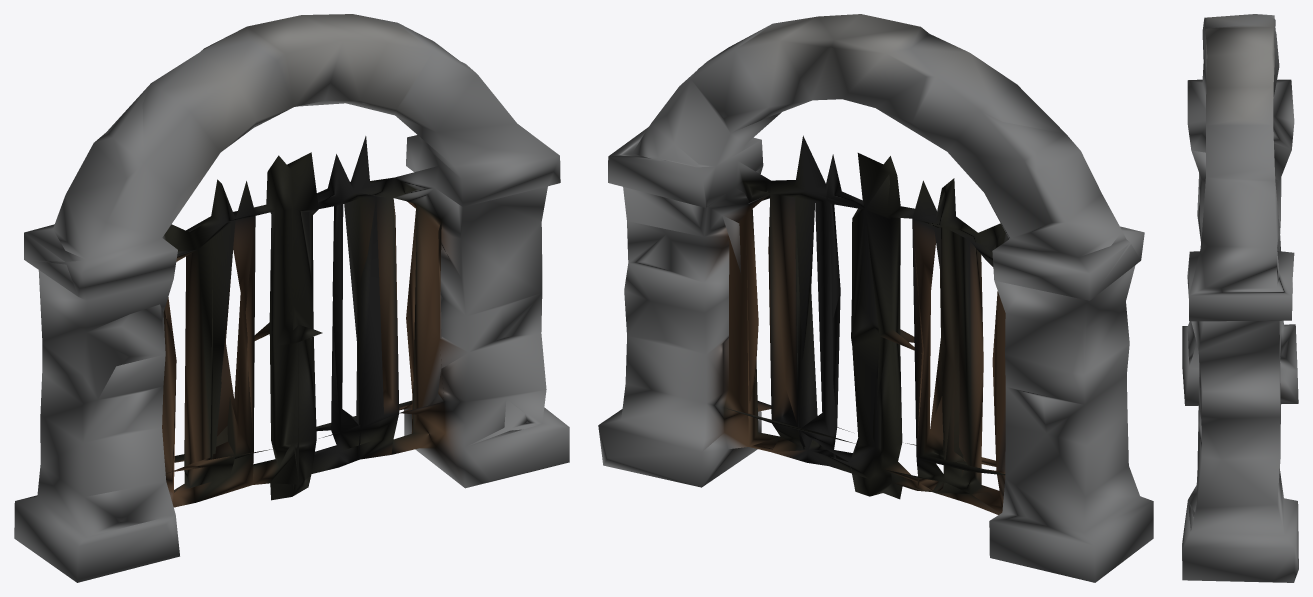
File: gen3d-arena-gate-lod1.glb
The picture shows the model from 3 angles, left to right: view 1: azimuth 30°, elevation 25°; view 2: azimuth 150°, elevation 25°; view 3: azimuth 270°, elevation 25°; orthographic projection. The views are drawn at different scales.
Parts seen in each view (by area): view 1: part_0; view 2: part_0; view 3: part_0.
Part boxes in pixels (x1,y1,x2,y2): part_0: (14,14,569,582); part_0: (598,14,1153,582); part_0: (1182,14,1298,582).
Bounding box in the file's own units: 1.1 × 0.9943 × 0.2424.
